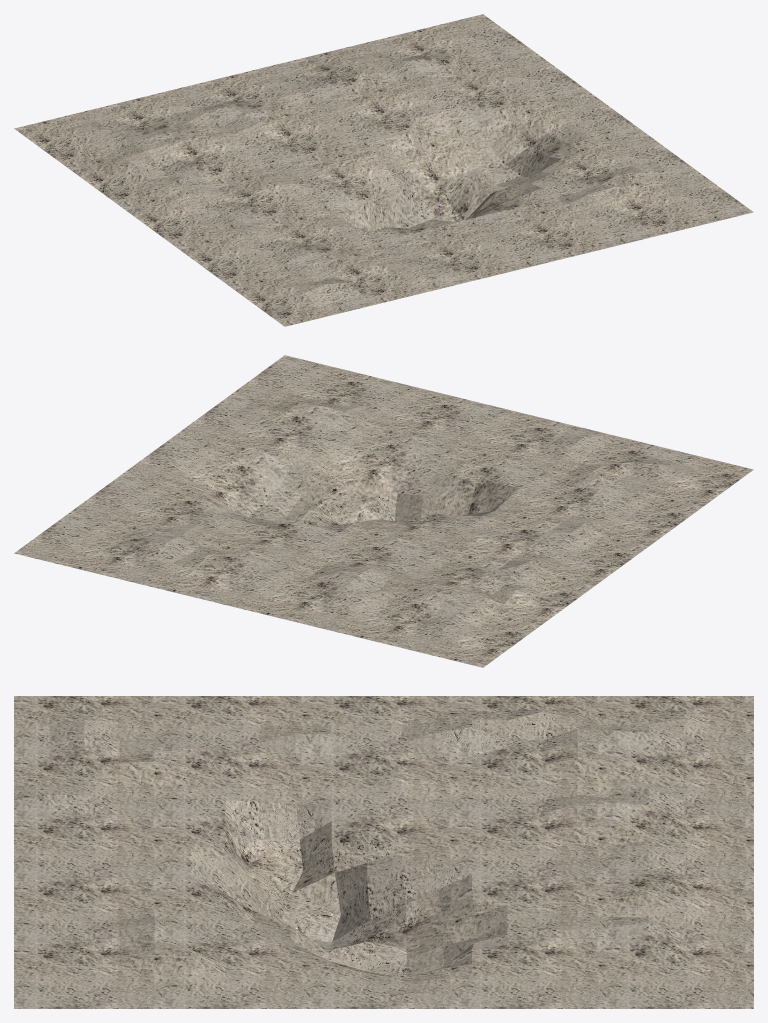
File: test_stage.obj
3 renders of one model, top to bottom at view 1: azimuth 30°, elevation 25°; view 2: azimuth 150°, elevation 25°; view 3: azimuth 270°, elevation 25°, orthographic. The views are drawn at different scales.
Visible parts, largest first — view 1: Plane; view 2: Plane; view 3: Plane.
Part boxes in pixels (<box>): Plane: <box>14,14,753,326</box>; Plane: <box>14,355,753,667</box>; Plane: <box>14,696,753,1008</box>.
Size of the model in its own units: 150 by 19.98 by 150.
